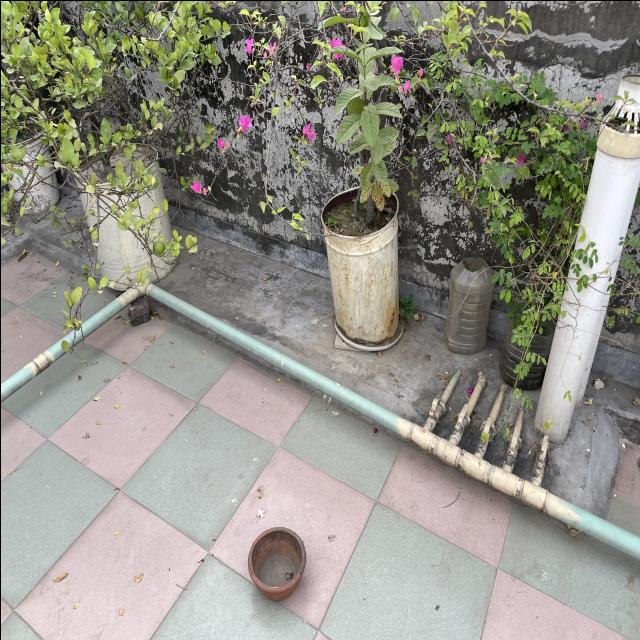Breeding Place: (86, 132, 173, 271), (332, 180, 396, 350), (442, 250, 494, 356), (2, 124, 53, 224), (496, 298, 546, 388), (247, 527, 302, 596)
